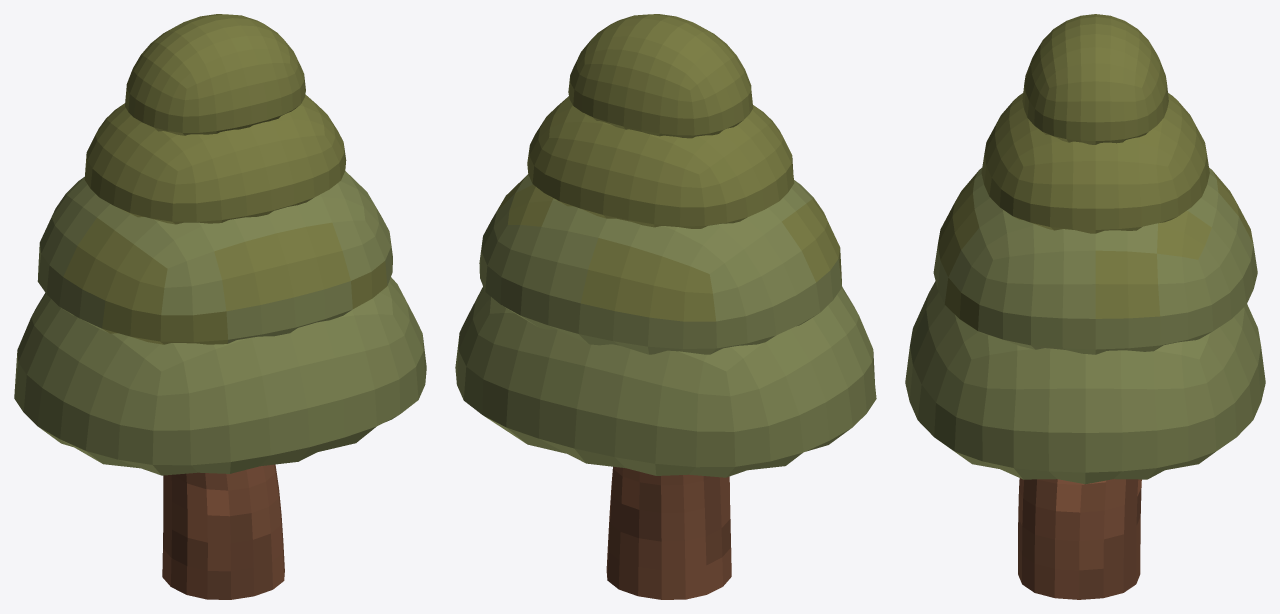
File: tree.fbx
3 renders of one model, left to right at view 1: azimuth 30°, elevation 25°; view 2: azimuth 150°, elevation 25°; view 3: azimuth 270°, elevation 25°, orthographic. The views are drawn at different scales.
Visible parts, largest first — view 1: Cube.001, Cube.002, Cube.003, Cube.004, Cube; view 2: Cube.001, Cube.002, Cube.003, Cube.004, Cube; view 3: Cube.001, Cube.002, Cube.003, Cube.004, Cube.
Boxes of the visible parts, x1,y1,x2,y2 form: Cube.001: [14, 277, 426, 475]; Cube.002: [37, 171, 392, 344]; Cube.003: [84, 94, 346, 224]; Cube.004: [125, 14, 305, 135]; Cube: [162, 464, 284, 599]; Cube.001: [455, 286, 876, 477]; Cube.002: [479, 174, 842, 354]; Cube.003: [527, 96, 794, 228]; Cube.004: [568, 14, 753, 138]; Cube: [606, 466, 731, 599]; Cube.001: [905, 281, 1265, 484]; Cube.002: [933, 167, 1257, 354]; Cube.003: [981, 93, 1209, 233]; Cube.004: [1022, 14, 1168, 144]; Cube: [1018, 478, 1141, 599].
Bounding box in the file's own units: 1591 × 2271 × 1349.
